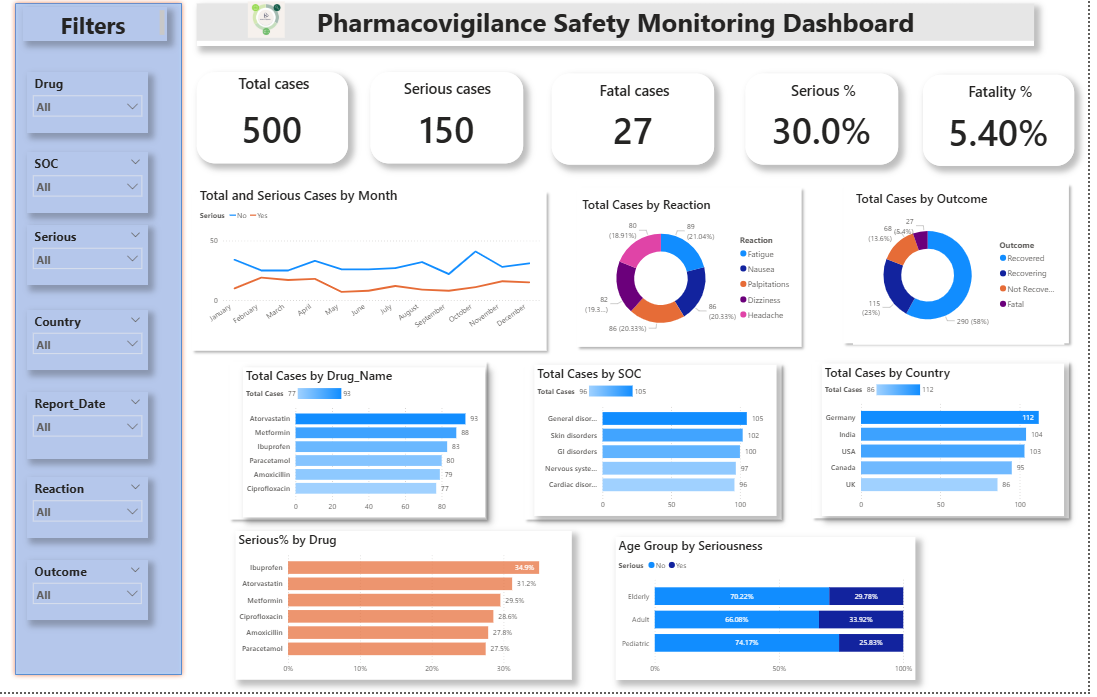

Layout of this report page (visuals, bound fields, positions):
{"tool":"powerbi","page":{"name":"Page 1","canvas":[1800,1215],"ordinal":0},"visuals":[{"type":"card","title":"Serious cases","fields":{"Values":["Pharmacovigilance_Dummy_ICSR_Dataset(1).Serious Cases"]},"box":[614.9,191.9,251.8,150.6],"z":0},{"type":"card","title":"Fatal cases","fields":{"Values":["Pharmacovigilance_Dummy_ICSR_Dataset(1).Fatal Cases"]},"box":[914.1,194,268.3,150.6],"z":1000},{"type":"card","title":"Serious %","fields":{"Values":["Pharmacovigilance_Dummy_ICSR_Dataset(1).Serious%"]},"box":[1234,194,251.8,150.6],"z":2000},{"type":"card","title":"Fatality %","fields":{"Values":["Pharmacovigilance_Dummy_ICSR_Dataset(1).fatality %"]},"box":[1527,196,249.7,150.6],"z":3000},{"type":"hundredPercentStackedBarChart","title":"Age Group by Seriousness","fields":{"Category":["Pharmacovigilance_Dummy_ICSR_Dataset(1).Age_Group"],"Y":["Pharmacovigilance_Dummy_ICSR_Dataset(1).Total Cases"],"Series":["Pharmacovigilance_Dummy_ICSR_Dataset(1).Serious"]},"box":[1019.4,959.5,495.2,235.2],"z":4000},{"type":"card","title":"Total cases","fields":{"Values":["Pharmacovigilance_Dummy_ICSR_Dataset(1).Total Cases"]},"box":[328.1,191.9,249.7,150.6],"z":6000},{"type":"shape","box":[311.6,379.7,602.6,280.6],"z":7000},{"type":"lineChart","title":"Total and Serious Cases by Month","fields":{"Category":["Pharmacovigilance_Dummy_ICSR_Dataset(1).Report_Date.Variation.Date Hierarchy.Month"],"Y":["Pharmacovigilance_Dummy_ICSR_Dataset(1).Total Cases"],"Series":["Pharmacovigilance_Dummy_ICSR_Dataset(1).Serious"]},"box":[328.1,379.7,571.6,255.9],"z":8000},{"type":"shape","box":[1386.7,367.3,390,280.6],"z":9000},{"type":"shape","box":[1335.1,660.3,441.6,276.5],"z":10000},{"type":"shape","box":[860.5,664.5,441.6,274.4],"z":11000},{"type":"shape","box":[373.5,660.3,441.6,278.6],"z":12000},{"type":"donutChart","fields":{"Category":["Pharmacovigilance_Dummy_ICSR_Dataset(1).Outcome"],"Y":["Pharmacovigilance_Dummy_ICSR_Dataset(1).Total Cases"]},"box":[1411.5,385.9,348.7,255.9],"z":13000},{"type":"shape","box":[947.2,373.5,387.9,280.6],"z":14000},{"type":"donutChart","fields":{"Category":["Pharmacovigilance_Dummy_ICSR_Dataset(1).Reaction"],"Y":["Pharmacovigilance_Dummy_ICSR_Dataset(1).Total Cases"]},"box":[959.5,396.2,361.1,245.6],"z":15000},{"type":"clusteredBarChart","fields":{"Y":["Pharmacovigilance_Dummy_ICSR_Dataset(1).Total Cases"],"Category":["Pharmacovigilance_Dummy_ICSR_Dataset(1).Country"]},"box":[1359.9,672.7,400.3,251.8],"z":16000},{"type":"clusteredBarChart","fields":{"Category":["Pharmacovigilance_Dummy_ICSR_Dataset(1).SOC"],"Y":["Pharmacovigilance_Dummy_ICSR_Dataset(1).Total Cases"]},"box":[885.3,674.8,400.3,249.7],"z":17000},{"type":"clusteredBarChart","fields":{"Y":["Pharmacovigilance_Dummy_ICSR_Dataset(1).Total Cases"],"Category":["Pharmacovigilance_Dummy_ICSR_Dataset(1).Drug_Name"]},"box":[404.5,678.9,400.3,247.6],"z":18000},{"type":"shape","box":[20.6,70.2,291,1124.6],"z":19000},{"type":"textbox","box":[40.8,85.6,238.5,55],"z":20000},{"type":"slicer","fields":{"Values":["Pharmacovigilance_Dummy_ICSR_Dataset(1).Drug_Name"]},"box":[47.7,191.6,200,100],"z":21000},{"type":"slicer","fields":{"Values":["Pharmacovigilance_Dummy_ICSR_Dataset(1).Country"]},"box":[47.7,584.9,200,100],"z":22000},{"type":"slicer","fields":{"Values":["Pharmacovigilance_Dummy_ICSR_Dataset(1).Serious"]},"box":[47.7,444.3,200,100],"z":23000},{"type":"slicer","fields":{"Values":["Pharmacovigilance_Dummy_ICSR_Dataset(1).SOC"]},"box":[47.7,324.1,200,100],"z":24000},{"type":"slicer","fields":{"Values":["Pharmacovigilance_Dummy_ICSR_Dataset(1).Outcome"]},"box":[47.9,996.6,199.7,99.9],"z":25000},{"type":"slicer","fields":{"Values":["Pharmacovigilance_Dummy_ICSR_Dataset(1).Reaction"]},"box":[47.7,860.1,200,100],"z":26000},{"type":"slicer","fields":{"Values":["Pharmacovigilance_Dummy_ICSR_Dataset(1).Report_Date"]},"box":[47.5,720.2,200.2,109.4],"z":27000},{"type":"shape","title":"Pharmacovigilance Safety Monitoring Dashboard","box":[328.1,78.4,1382.6,70.2],"z":28000},{"type":"image","box":[404.5,70.2,76.4,70.2],"z":29000},{"type":"clusteredBarChart","title":"Serious% by Drug","fields":{"Category":["Pharmacovigilance_Dummy_ICSR_Dataset(1).Drug_Name"],"Y":["Pharmacovigilance_Dummy_ICSR_Dataset(1).Serious%"]},"box":[392.1,949.2,555.1,245.6],"z":29001}]}

Visuals, with their boxes on the page's 1800x1215 design canvas (x1, y1, x2, y2). These are canvas units, not pixel positions in the 1097x697 screenshot, which may show the page scaled, cropped or inside an application window:
"Serious cases" card: 615 192 867 342
"Fatal cases" card: 914 194 1182 345
"Serious %" card: 1234 194 1486 345
"Fatality %" card: 1527 196 1777 347
"Age Group by Seriousness" hundredPercentStackedBarChart: 1019 960 1515 1195
"Total cases" card: 328 192 578 342
shape: 312 380 914 660
"Total and Serious Cases by Month" lineChart: 328 380 900 636
shape: 1387 367 1777 648
shape: 1335 660 1777 937
shape: 860 664 1302 939
shape: 374 660 815 939
donutChart - Pharmacovigilance_Dummy_ICSR_Dataset(1).Outcome x Pharmacovigilance_Dummy_ICSR_Dataset(1).Total Cases: 1412 386 1760 642
shape: 947 374 1335 654
donutChart - Pharmacovigilance_Dummy_ICSR_Dataset(1).Reaction x Pharmacovigilance_Dummy_ICSR_Dataset(1).Total Cases: 960 396 1321 642
clusteredBarChart - Pharmacovigilance_Dummy_ICSR_Dataset(1).Total Cases x Pharmacovigilance_Dummy_ICSR_Dataset(1).Country: 1360 673 1760 924
clusteredBarChart - Pharmacovigilance_Dummy_ICSR_Dataset(1).SOC x Pharmacovigilance_Dummy_ICSR_Dataset(1).Total Cases: 885 675 1286 924
clusteredBarChart - Pharmacovigilance_Dummy_ICSR_Dataset(1).Total Cases x Pharmacovigilance_Dummy_ICSR_Dataset(1).Drug_Name: 404 679 805 926
shape: 21 70 312 1195
textbox: 41 86 279 141
slicer - Pharmacovigilance_Dummy_ICSR_Dataset(1).Drug_Name: 48 192 248 292
slicer - Pharmacovigilance_Dummy_ICSR_Dataset(1).Country: 48 585 248 685
slicer - Pharmacovigilance_Dummy_ICSR_Dataset(1).Serious: 48 444 248 544
slicer - Pharmacovigilance_Dummy_ICSR_Dataset(1).SOC: 48 324 248 424
slicer - Pharmacovigilance_Dummy_ICSR_Dataset(1).Outcome: 48 997 248 1096
slicer - Pharmacovigilance_Dummy_ICSR_Dataset(1).Reaction: 48 860 248 960
slicer - Pharmacovigilance_Dummy_ICSR_Dataset(1).Report_Date: 48 720 248 830
"Pharmacovigilance Safety Monitoring Dashboard" shape: 328 78 1711 149
image: 404 70 481 140
"Serious% by Drug" clusteredBarChart: 392 949 947 1195
